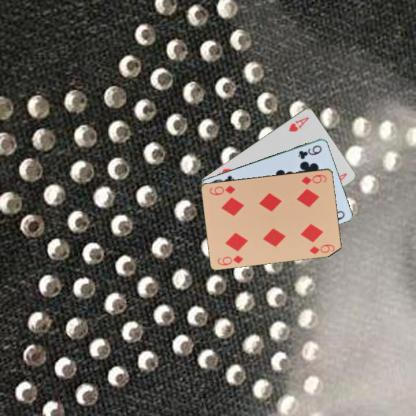6d: (299, 172, 328, 186), (215, 252, 244, 266)
9c: (296, 142, 323, 160)
Ah: (286, 114, 310, 133)
